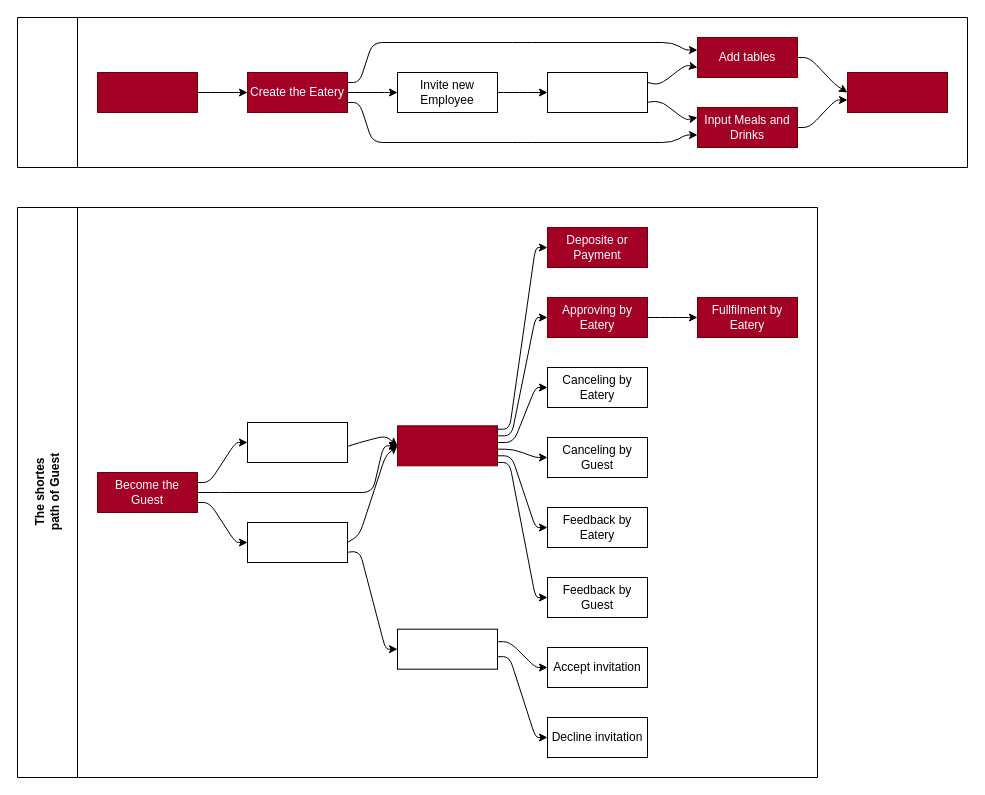
Some shapes in this 985 by 795 pixel diagram are drawn without their labels. The shapes that lost their labels are listed below. From the top down, each one's box as (x1, y1, x2, y2) in pixels, then its label:
(96, 72, 198, 112): Become the Employee
(16, 16, 968, 168): The shortest path of Eatery's owner
(546, 72, 648, 112): Add MDM role to new Employee
(846, 72, 948, 112): Publish
(246, 422, 348, 462): Book the Table
(396, 425, 498, 466): Create Order
(246, 522, 348, 562): Invite others
(396, 628, 498, 669): Recieve invitation
